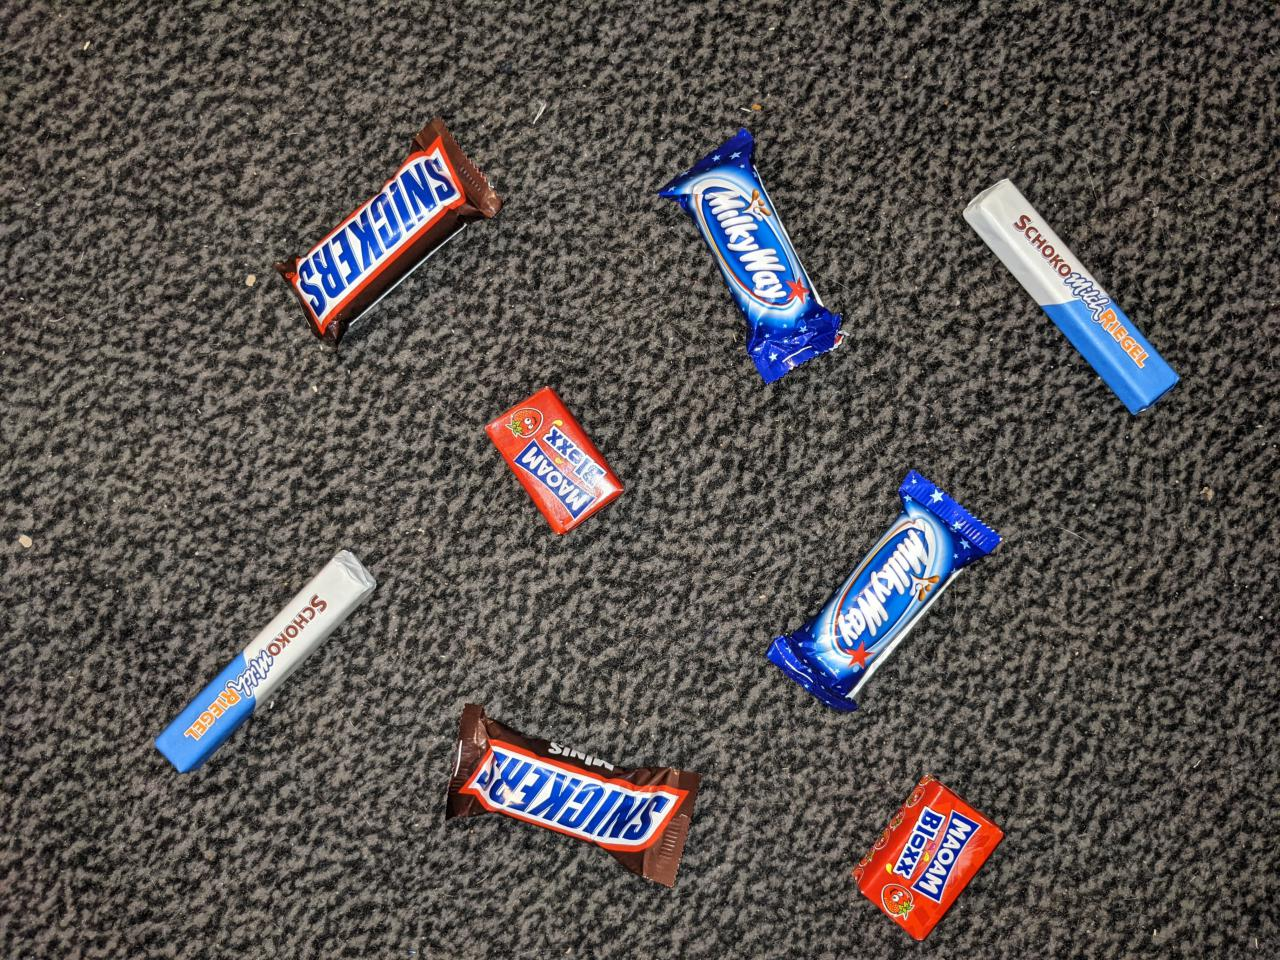MAOAM: (845, 769, 1009, 947), (478, 379, 633, 541)
MilkyWay: (759, 466, 1007, 719), (655, 123, 854, 390)
Schokoriegel: (955, 174, 1185, 418), (151, 544, 384, 778)
Snickers: (268, 112, 508, 359), (441, 699, 707, 892)
